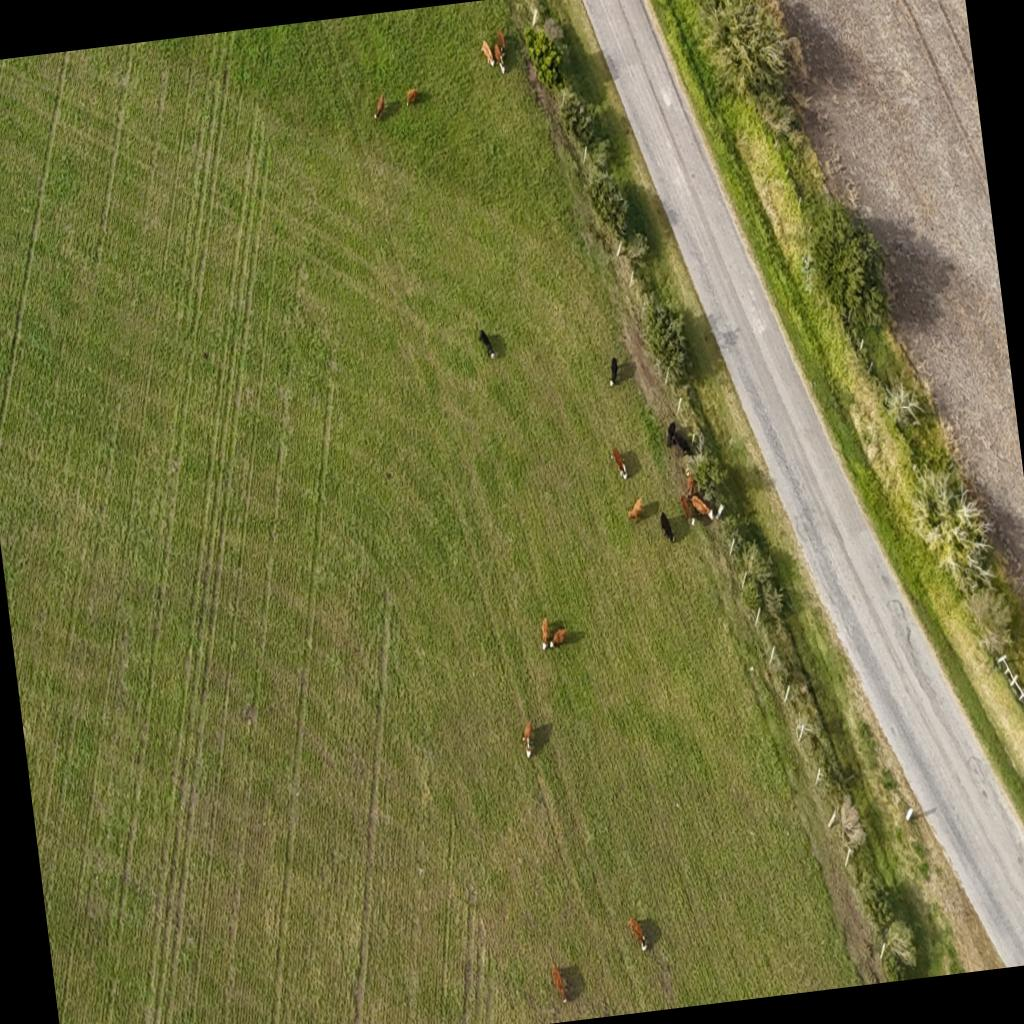cow: (691, 488, 723, 530), (604, 442, 628, 482), (625, 914, 648, 954), (550, 962, 570, 1005), (678, 490, 696, 532), (519, 720, 536, 758), (624, 494, 644, 524), (477, 328, 495, 360), (668, 420, 687, 450), (680, 463, 696, 498), (658, 510, 674, 544), (480, 38, 496, 70), (548, 626, 568, 650), (495, 26, 509, 60), (493, 43, 507, 76), (606, 356, 620, 388), (538, 616, 551, 650), (371, 93, 386, 122), (404, 87, 420, 108)
